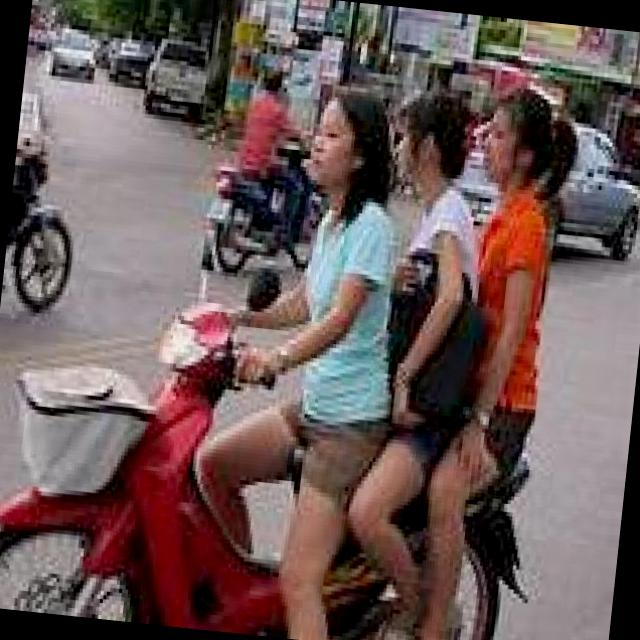motorcycle: (0, 272, 562, 640)
person: (214, 80, 416, 542), (404, 71, 598, 529), (316, 80, 514, 471)
rider_region: (0, 35, 583, 640)
